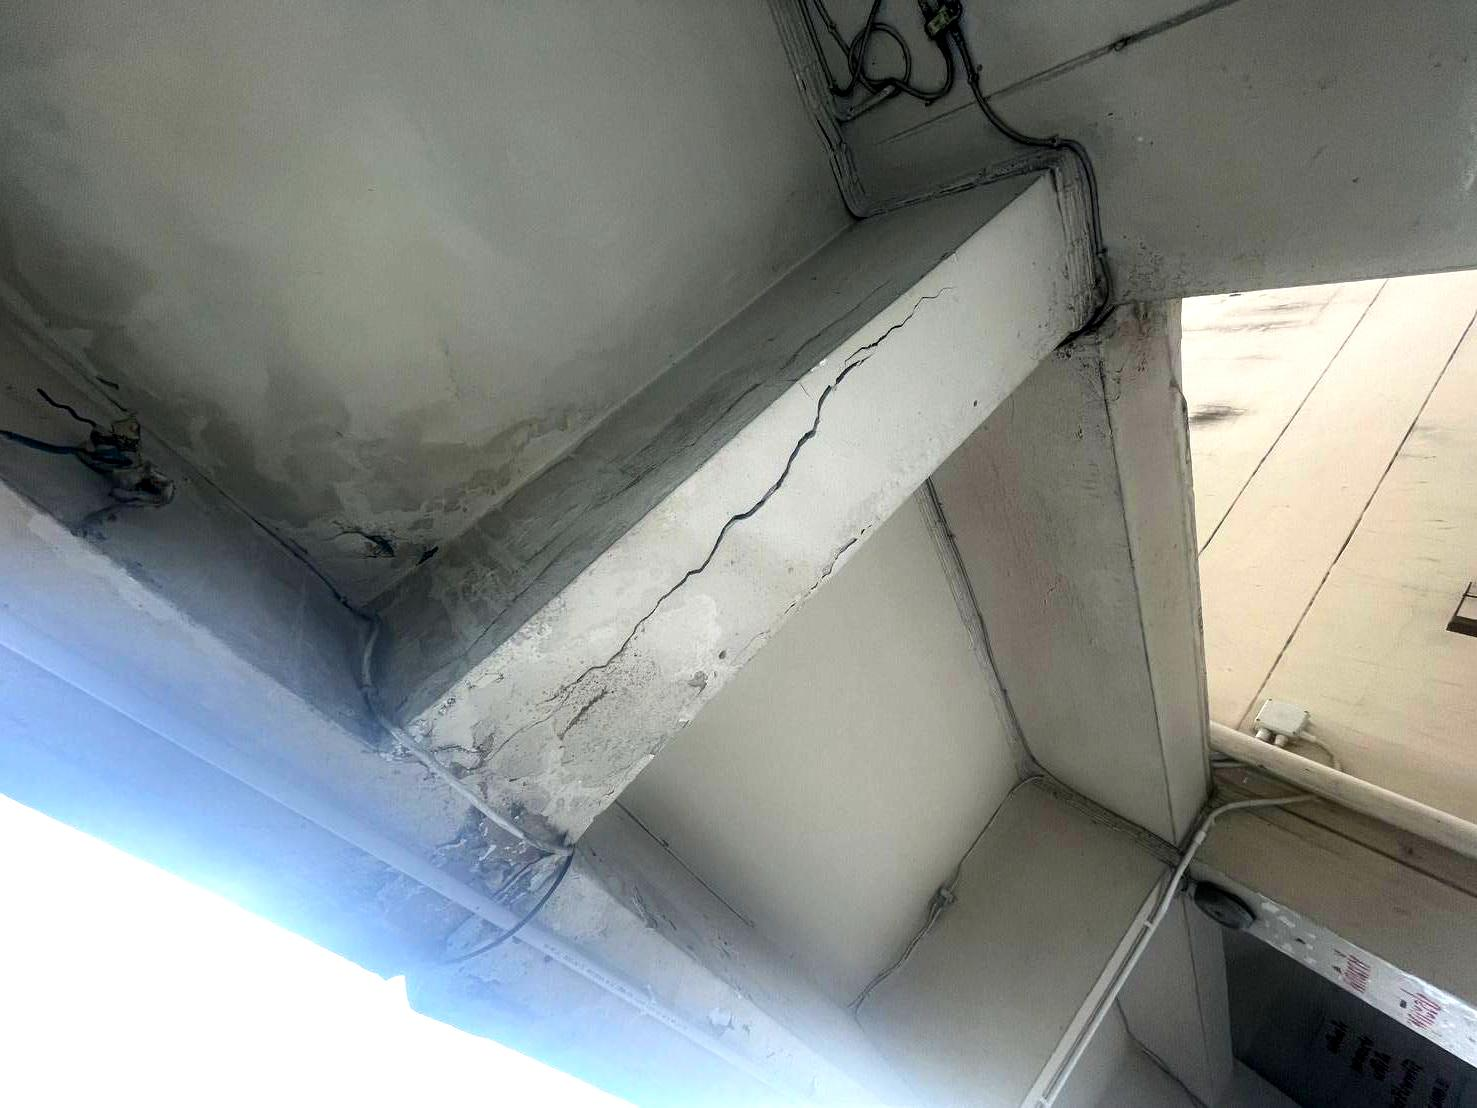High: (432, 278, 963, 967)
